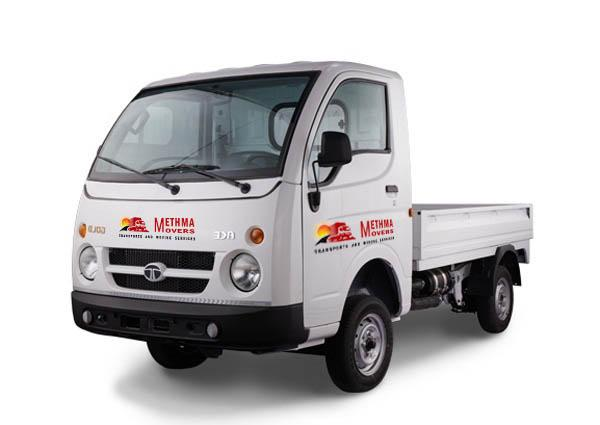truck: (71, 60, 533, 394)
